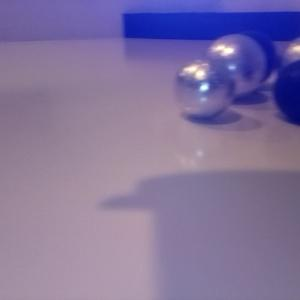alive_ball: (207, 34, 267, 100), (174, 59, 235, 120), (279, 38, 300, 74)
dead_ball: (227, 30, 280, 86), (273, 61, 300, 125)
